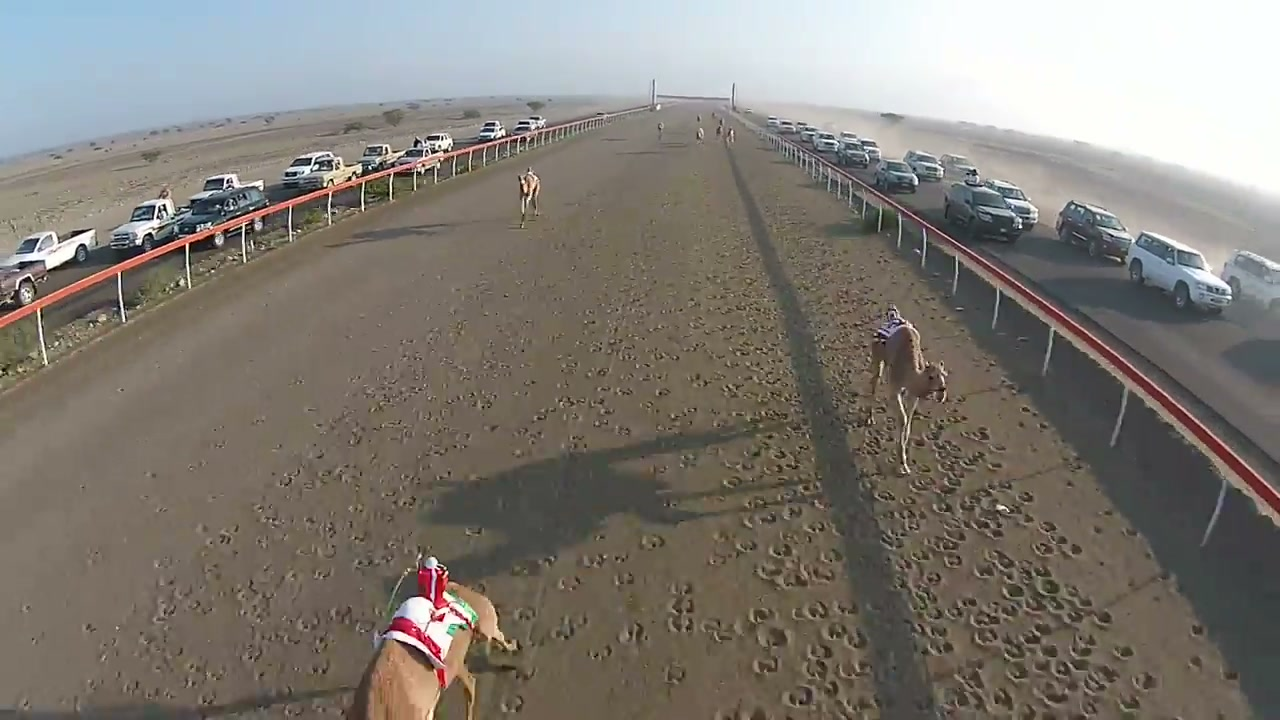animal_foot_print: (13, 125, 1258, 719)
